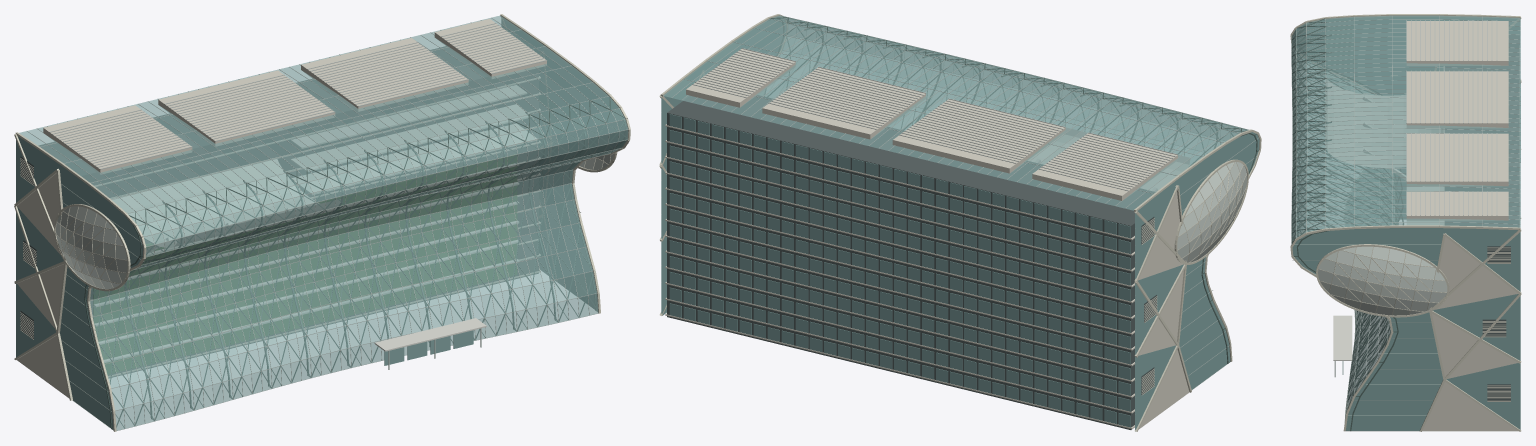
File: bespoke-seoul-city-hall-new.glb
3 renders of one model, left to right at view 1: azimuth 30°, elevation 25°; view 2: azimuth 150°, elevation 25°; view 3: azimuth 270°, elevation 25°, orthographic. The views are drawn at different scales.
Parts seen in each view (by area): view 1: New_01_Double_Curved_Glass_Glass_panel_2, New_01_Double_Curved_Glass_Glass_panel_3, New_01_Double_Curved_Glass_Glass_panel_1, New_01_Double_Curved_Glass_Glass_panel_0, New_07_Green_Wall_and_Entry_Seven_storey_green_wall, New_06_Rear_Office_and_Roof_Warm_silver_side_panels, New_02_Triangulated_Steel_Curtainwall_grey_steel, New_02_Triangulated_Steel_Dark_structural_space_frame, New_05_Suspended_Cultural_Hall_Suspended_hall_white_metal, New_06_Rear_Office_and_Roof_Recess_and_louvres, New_06_Rear_Office_and_Roof_Roof_silver_ribs, New_04_West_Lens_End_Side_reflective_glass (+8 smaller); view 2: New_06_Rear_Office_and_Roof_Side_reflective_glass, New_06_Rear_Office_and_Roof_Recess_and_louvres, New_06_Rear_Office_and_Roof_Warm_silver_side_panels, New_06_Rear_Office_and_Roof_Roof_silver_ribs, New_04_West_Lens_End_Side_reflective_glass, New_01_Double_Curved_Glass_Glass_panel_1, New_01_Double_Curved_Glass_Glass_panel_2, New_01_Double_Curved_Glass_Glass_panel_3, New_01_Double_Curved_Glass_Glass_panel_0, New_02_Triangulated_Steel_Curtainwall_grey_steel, New_04_West_Lens_End_Champagne_metal_edge_fascia, New_02_Triangulated_Steel_Dark_structural_space_frame (+6 smaller); view 3: New_06_Rear_Office_and_Roof_Warm_silver_side_panels, New_03_East_Lens_End_Side_reflective_glass, New_01_Double_Curved_Glass_Glass_panel_2, New_01_Double_Curved_Glass_Glass_panel_3, New_02_Triangulated_Steel_Curtainwall_grey_steel, New_01_Double_Curved_Glass_Glass_panel_1, New_01_Double_Curved_Glass_Glass_panel_0, New_02_Triangulated_Steel_Dark_structural_space_frame, New_03_East_Lens_End_Warm_silver_side_panels, New_03_East_Lens_End_Faceted_silver_lens, New_03_East_Lens_End_Champagne_metal_edge_fascia, New_04_West_Lens_End_Side_reflective_glass (+7 smaller).
Part boxes in pixels (bbox=[...]): New_01_Double_Curved_Glass_Glass_panel_2: bbox=[38, 18, 627, 425]; New_01_Double_Curved_Glass_Glass_panel_3: bbox=[28, 20, 624, 428]; New_01_Double_Curved_Glass_Glass_panel_1: bbox=[40, 15, 628, 423]; New_01_Double_Curved_Glass_Glass_panel_0: bbox=[19, 22, 627, 430]; New_07_Green_Wall_and_Entry_Seven_storey_green_wall: bbox=[93, 154, 516, 374]; New_06_Rear_Office_and_Roof_Warm_silver_side_panels: bbox=[43, 18, 546, 377]; New_02_Triangulated_Steel_Curtainwall_grey_steel: bbox=[27, 17, 628, 430]; New_02_Triangulated_Steel_Dark_structural_space_frame: bbox=[84, 96, 627, 430]; New_05_Suspended_Cultural_Hall_Suspended_hall_white_metal: bbox=[112, 85, 536, 253]; New_06_Rear_Office_and_Roof_Recess_and_louvres: bbox=[39, 46, 538, 378]; New_06_Rear_Office_and_Roof_Roof_silver_ribs: bbox=[49, 23, 547, 169]; New_04_West_Lens_End_Side_reflective_glass: bbox=[16, 136, 143, 429]; New_06_Rear_Office_and_Roof_Side_reflective_glass: bbox=[669, 114, 1130, 427]; New_06_Rear_Office_and_Roof_Recess_and_louvres: bbox=[667, 95, 1155, 429]; New_06_Rear_Office_and_Roof_Warm_silver_side_panels: bbox=[665, 49, 1177, 429]; New_06_Rear_Office_and_Roof_Roof_silver_ribs: bbox=[692, 48, 1177, 191]; New_04_West_Lens_End_Side_reflective_glass: bbox=[1135, 132, 1259, 429]; New_01_Double_Curved_Glass_Glass_panel_1: bbox=[663, 19, 1247, 203]; New_01_Double_Curved_Glass_Glass_panel_2: bbox=[672, 15, 1244, 205]; New_01_Double_Curved_Glass_Glass_panel_3: bbox=[682, 18, 1230, 208]; New_01_Double_Curved_Glass_Glass_panel_0: bbox=[692, 19, 1239, 210]; New_02_Triangulated_Steel_Curtainwall_grey_steel: bbox=[672, 15, 1249, 208]; New_04_West_Lens_End_Champagne_metal_edge_fascia: bbox=[1134, 129, 1261, 431]; New_02_Triangulated_Steel_Dark_structural_space_frame: bbox=[764, 17, 1259, 363]; New_06_Rear_Office_and_Roof_Warm_silver_side_panels: bbox=[1406, 21, 1508, 225]; New_03_East_Lens_End_Side_reflective_glass: bbox=[1292, 228, 1520, 430]; New_01_Double_Curved_Glass_Glass_panel_2: bbox=[1291, 15, 1520, 411]; New_01_Double_Curved_Glass_Glass_panel_3: bbox=[1291, 15, 1520, 415]; New_02_Triangulated_Steel_Curtainwall_grey_steel: bbox=[1291, 16, 1520, 421]; New_01_Double_Curved_Glass_Glass_panel_1: bbox=[1291, 15, 1520, 407]; New_01_Double_Curved_Glass_Glass_panel_0: bbox=[1291, 16, 1520, 408]; New_02_Triangulated_Steel_Dark_structural_space_frame: bbox=[1292, 18, 1403, 431]; New_03_East_Lens_End_Warm_silver_side_panels: bbox=[1422, 237, 1518, 431]; New_03_East_Lens_End_Faceted_silver_lens: bbox=[1318, 246, 1447, 315]; New_03_East_Lens_End_Champagne_metal_edge_fascia: bbox=[1290, 225, 1521, 431]; New_04_West_Lens_End_Side_reflective_glass: bbox=[1293, 17, 1520, 219].
Bounding box in the file's own units: 110 × 48.22 × 48.6.
